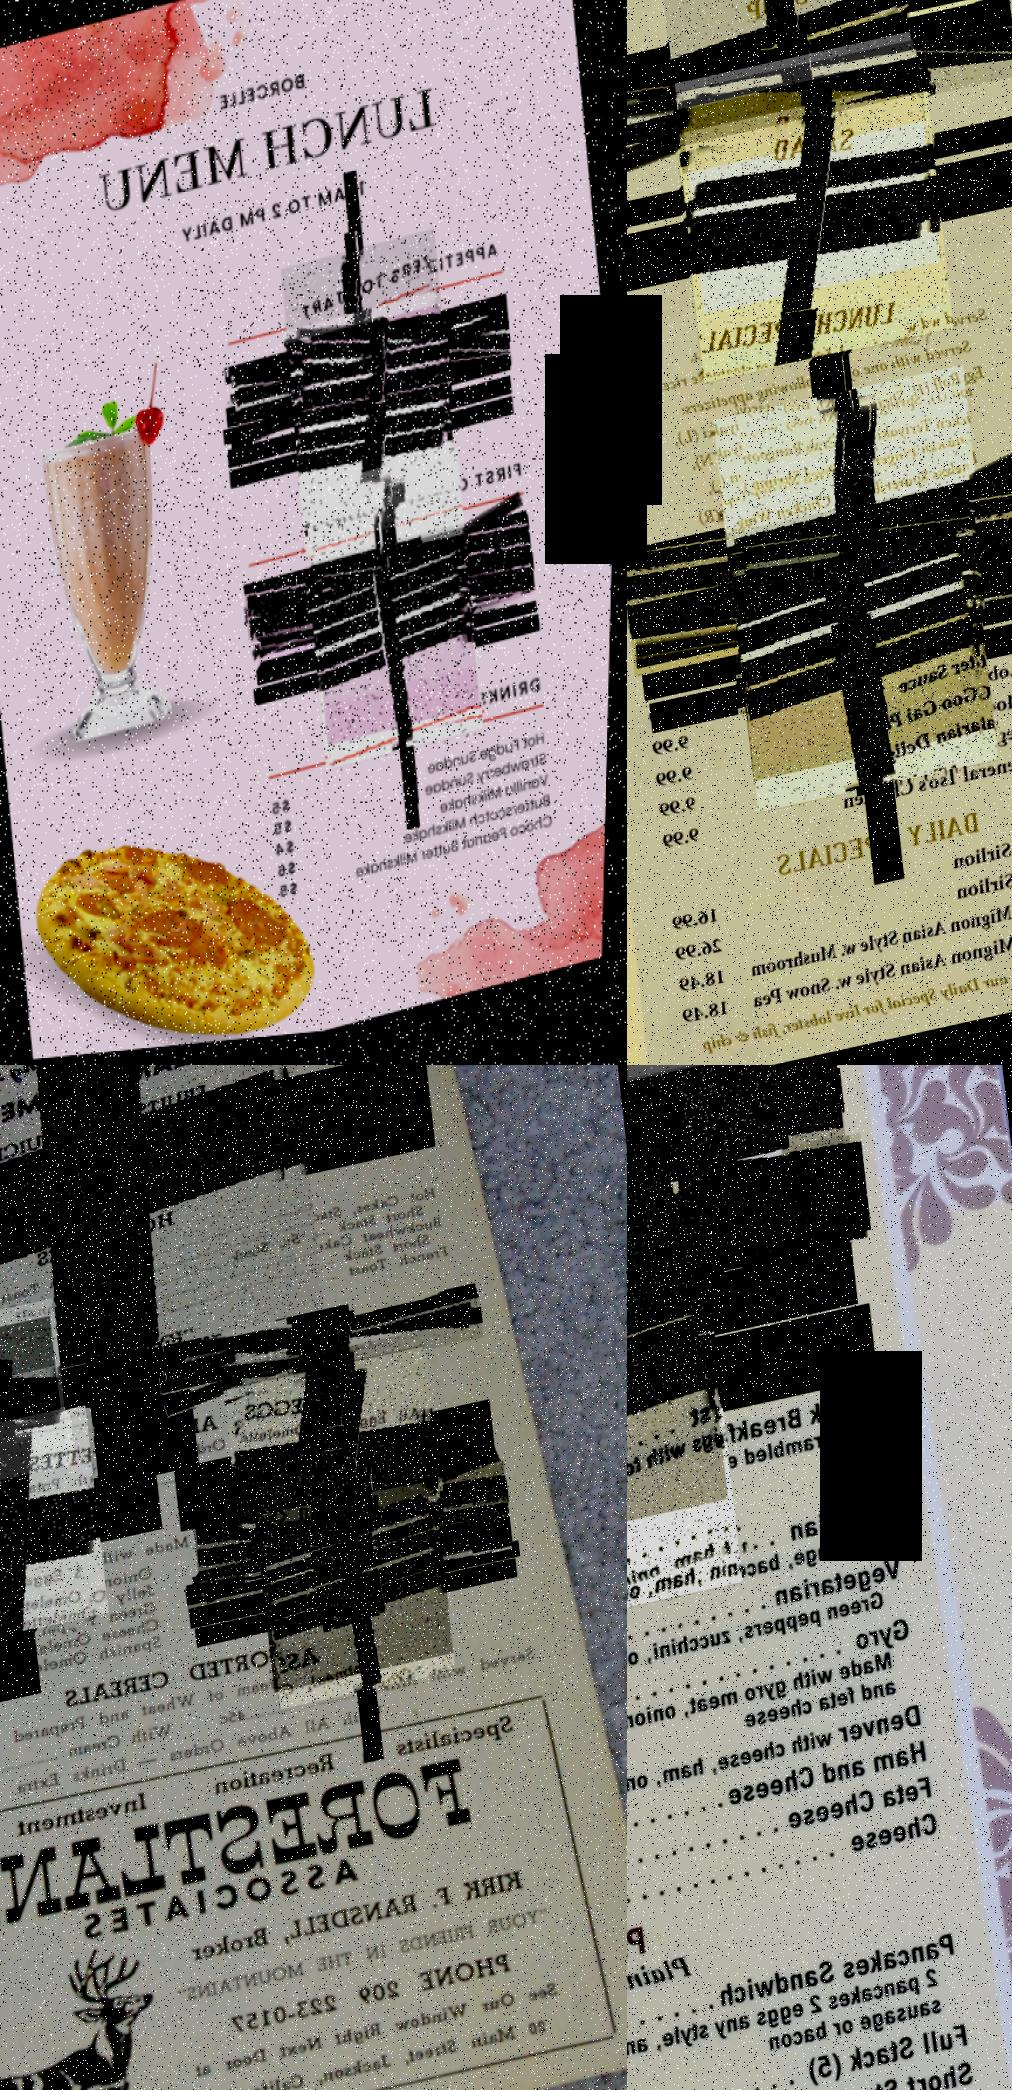Menu-Items: (0, 1065, 336, 1402), (668, 95, 962, 400), (707, 378, 1000, 682), (667, 68, 958, 371), (713, 440, 997, 736), (727, 509, 1006, 799), (731, 540, 1009, 829), (671, 45, 945, 331), (627, 1621, 929, 1868), (627, 1173, 757, 1688), (627, 1816, 948, 2016), (627, 474, 1012, 639), (627, 1783, 950, 1975), (627, 1145, 875, 1393), (627, 1505, 906, 1723), (627, 1746, 939, 1940), (627, 1703, 929, 1903), (627, 1568, 914, 1778), (627, 1399, 897, 1617), (627, 32, 1012, 181), (627, 1096, 739, 1605), (222, 1357, 456, 1600), (627, 2, 1012, 145), (647, 0, 928, 190), (627, 1942, 978, 2090), (632, 558, 1012, 687), (627, 1065, 851, 1266), (255, 1489, 462, 1705), (257, 1508, 464, 1723), (647, 687, 1012, 806), (279, 314, 464, 544), (282, 336, 467, 566), (659, 751, 1012, 870), (655, 718, 1012, 835), (310, 556, 491, 783), (193, 1476, 515, 1603), (659, 836, 1012, 951), (300, 455, 480, 679), (258, 1460, 453, 1663), (279, 235, 457, 457), (653, 661, 1012, 771), (674, 893, 1012, 1009), (310, 540, 488, 760), (308, 496, 484, 718), (280, 300, 456, 518), (246, 522, 537, 653), (684, 927, 1012, 1038), (670, 871, 1012, 976), (159, 1310, 487, 1419), (226, 331, 513, 444), (226, 313, 512, 421), (189, 1533, 518, 1626), (162, 1299, 476, 1396), (0, 1411, 117, 1670), (256, 580, 538, 676), (641, 1077, 800, 1243), (627, 1065, 786, 1218), (0, 1616, 178, 1711), (627, 1065, 779, 1175), (0, 1323, 77, 1537), (0, 1304, 79, 1511), (0, 1637, 176, 1726), (0, 1602, 172, 1692), (0, 1565, 168, 1655), (0, 1588, 167, 1670), (627, 1065, 784, 1129)
